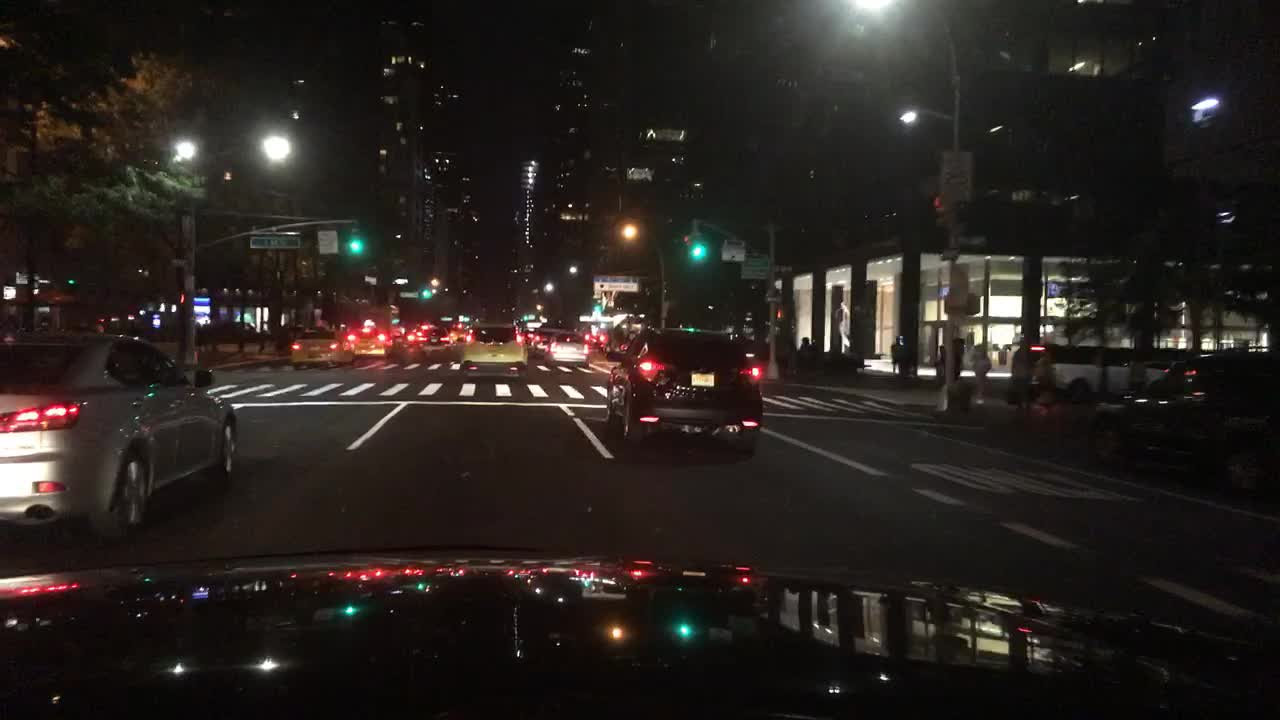bus: (1036, 344, 1188, 405)
car: (0, 332, 237, 542), (1086, 350, 1278, 503), (605, 327, 762, 459), (461, 321, 530, 369), (288, 324, 346, 369), (541, 327, 591, 369), (602, 320, 643, 362), (351, 329, 390, 361), (530, 324, 561, 357), (406, 324, 446, 344), (590, 326, 607, 347), (391, 327, 404, 347), (449, 328, 466, 343), (525, 325, 535, 343)
person: (1007, 338, 1033, 413), (967, 345, 989, 408), (1128, 354, 1148, 405), (952, 316, 966, 385), (888, 332, 904, 381), (936, 343, 950, 387), (796, 335, 810, 355)
traffic light: (686, 234, 707, 262), (347, 227, 365, 258), (420, 285, 432, 301), (931, 194, 941, 207), (592, 304, 602, 312), (775, 310, 782, 321), (180, 292, 186, 304), (67, 278, 77, 284)
traffic sign: (941, 150, 971, 204), (250, 234, 303, 248), (741, 253, 768, 280), (594, 275, 639, 290), (316, 229, 338, 252), (720, 239, 742, 259), (397, 290, 416, 298), (773, 264, 793, 270)
